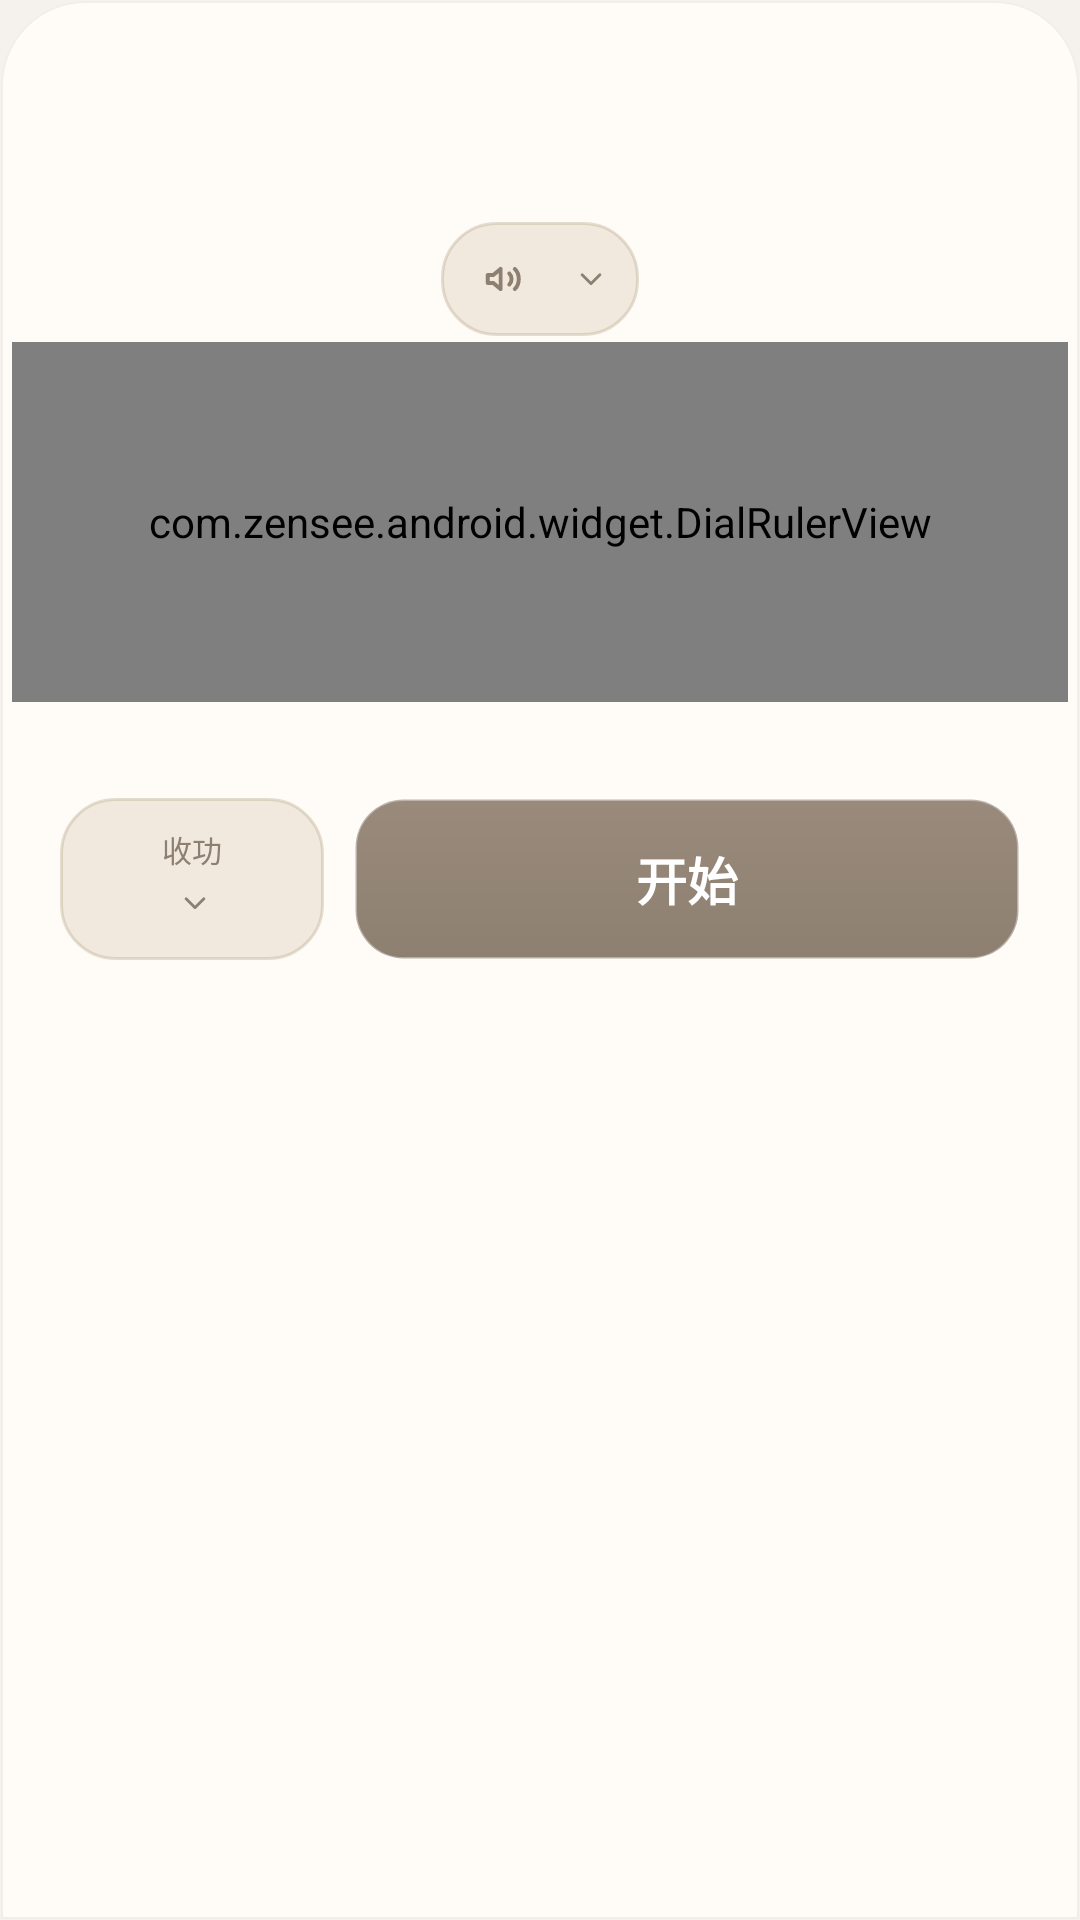

Icon bounding boxes for this 1080w x 1920h phone screenshot, format (x1, y1, x2, y2):
meditation sound toggle: (485, 267, 521, 291)
